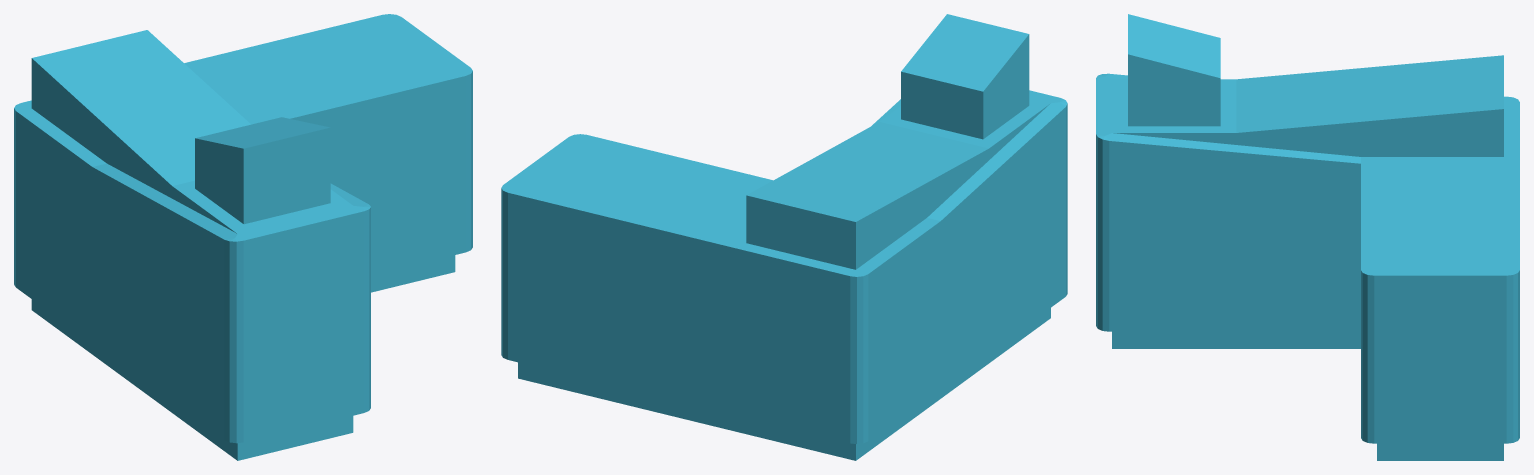
3 views of the same model, side by side, from view 1: azimuth 30°, elevation 25°; view 2: azimuth 150°, elevation 25°; view 3: azimuth 270°, elevation 25° (orthographic). The views are drawn at different scales.
Parts seen in each view (by area): view 1: Cube; view 2: Cube; view 3: Cube.
Part boxes in pixels (x1=…): Cube: x1=14, y1=14, x2=472, y2=460; Cube: x1=501, y1=14, x2=1067, y2=460; Cube: x1=1096, y1=14, x2=1519, y2=460.
Bounding box in the file's own units: 160 × 120 × 160.
